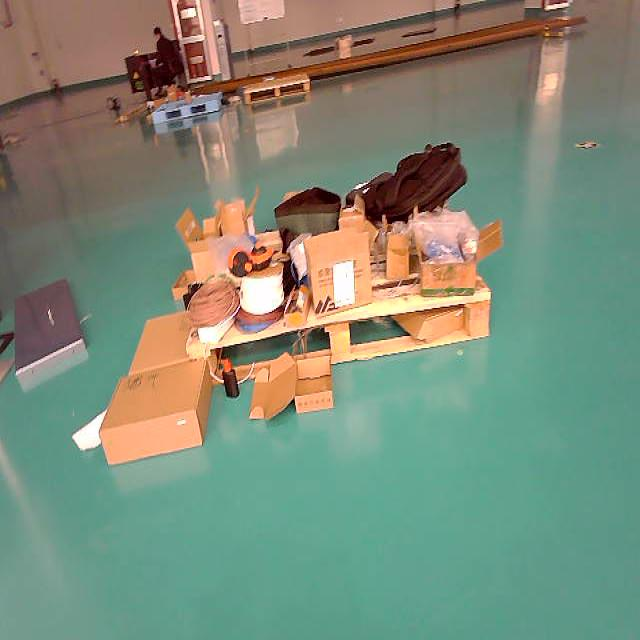euro: (122, 198, 539, 412)
